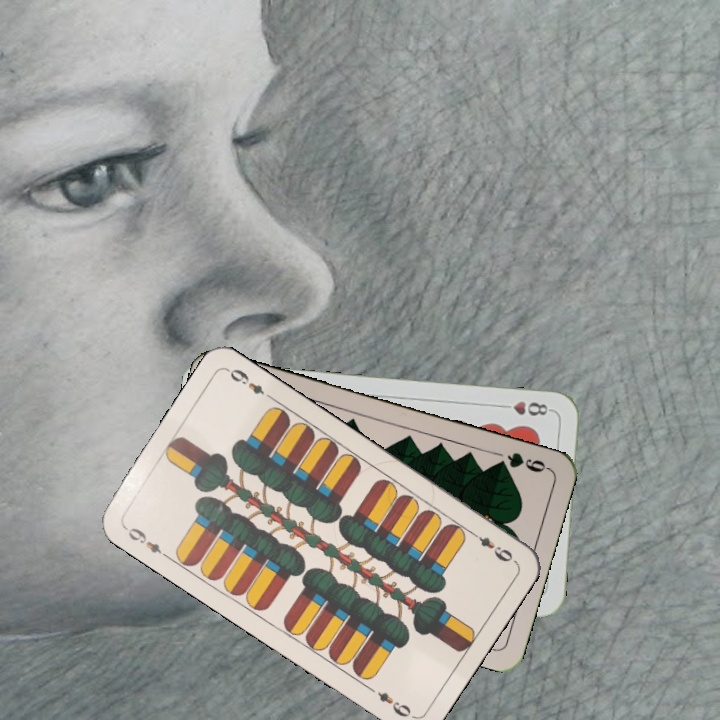E9: (465, 526, 518, 565), (120, 522, 172, 561)
G9: (491, 448, 552, 475)
H8: (496, 397, 555, 419)
